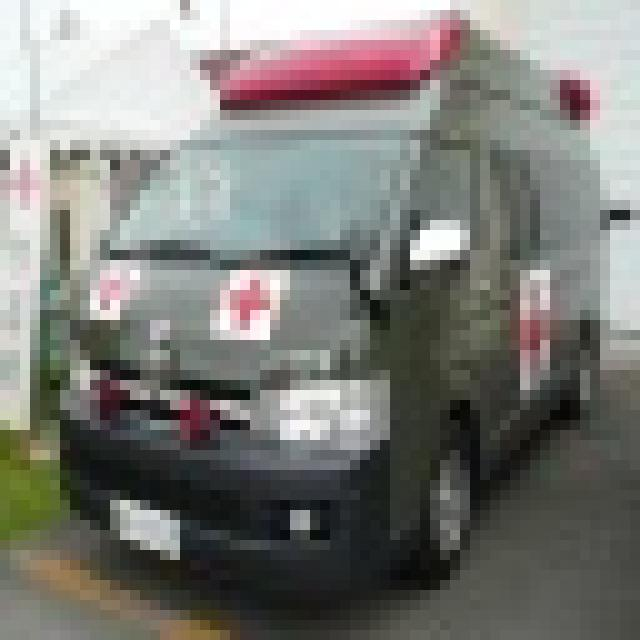Ambulance: (50, 0, 620, 600)
